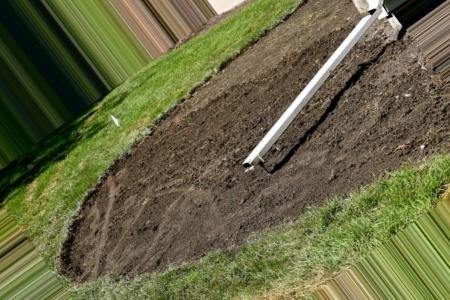patch: (143, 121, 338, 221), (276, 39, 416, 165), (87, 184, 246, 266)
